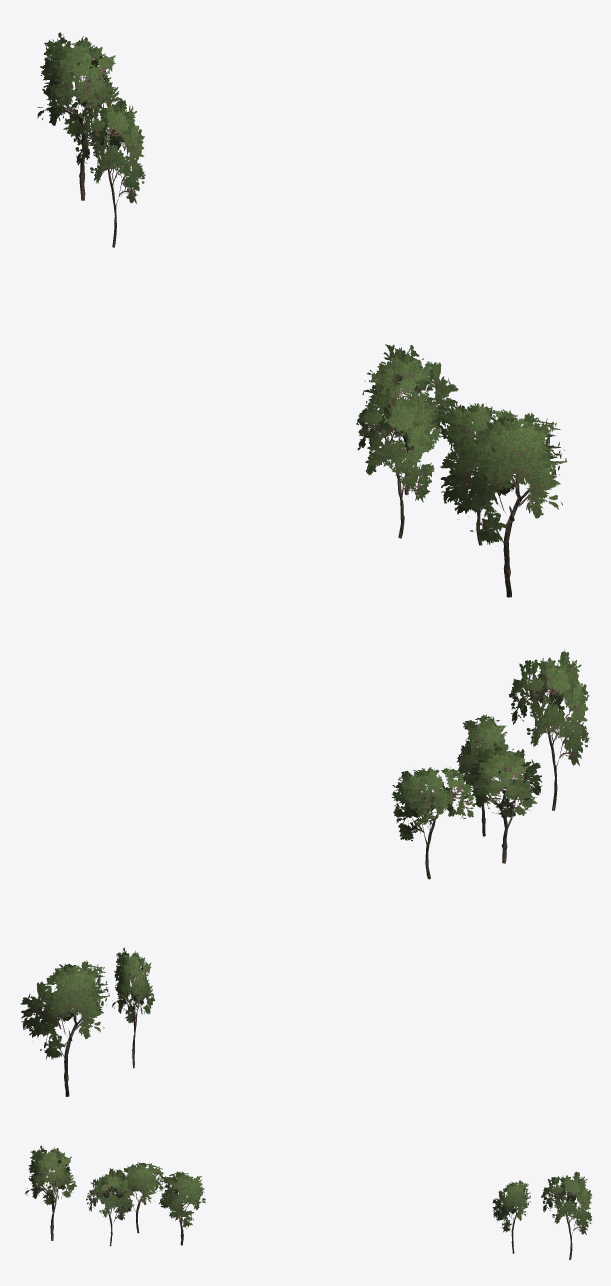
3 views of the same model, one above another, from view 1: azimuth 30°, elevation 25°; view 2: azimuth 150°, elevation 25°; view 3: azimuth 270°, elevation 25° (orthographic). The views are drawn at different scales.
Parts seen in each view (by area): view 1: Sands event plaza broadleaf crowns, Sands event plaza broadleaf bark; view 2: Sands event plaza broadleaf crowns, Sands event plaza broadleaf bark; view 3: Sands event plaza broadleaf crowns, Sands event plaza broadleaf bark.
Part boxes in pixels (x1,y1,x2,y2): Sands event plaza broadleaf crowns: (37,32,566,544); Sands event plaza broadleaf bark: (57,91,538,597); Sands event plaza broadleaf crowns: (20,649,589,1059); Sands event plaza broadleaf bark: (49,693,565,1096); Sands event plaza broadleaf crowns: (25,1145,592,1234); Sands event plaza broadleaf bark: (43,1181,577,1259).
Bounding box in the file's own units: 22.87 × 18.5 × 106.
2 materials, 2 textured.
